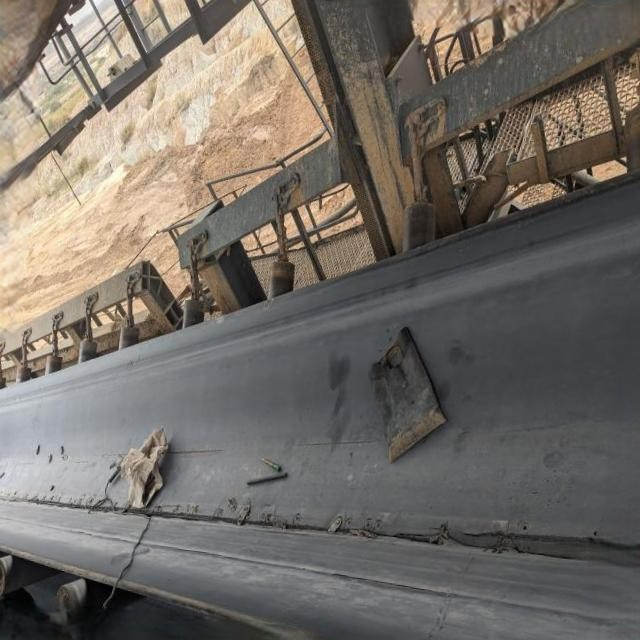Tear: (0, 492, 619, 570)
